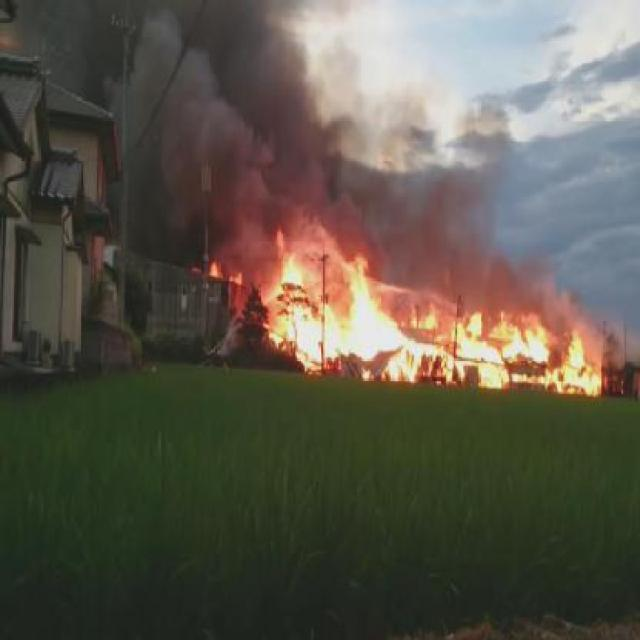Fire: (276, 259, 396, 361), (451, 326, 547, 364), (564, 369, 606, 398), (479, 365, 510, 390), (510, 370, 555, 384), (568, 331, 584, 367), (470, 306, 484, 337), (208, 260, 223, 282), (230, 269, 241, 286)
Smoke: (113, 0, 282, 255), (286, 43, 328, 243), (44, 0, 114, 102), (326, 154, 360, 248), (324, 114, 352, 137)
